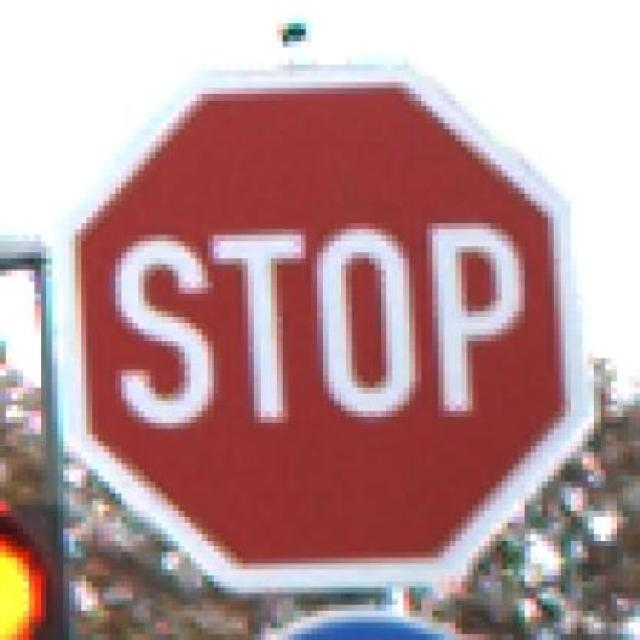Stop_Sign: (46, 52, 600, 617)
